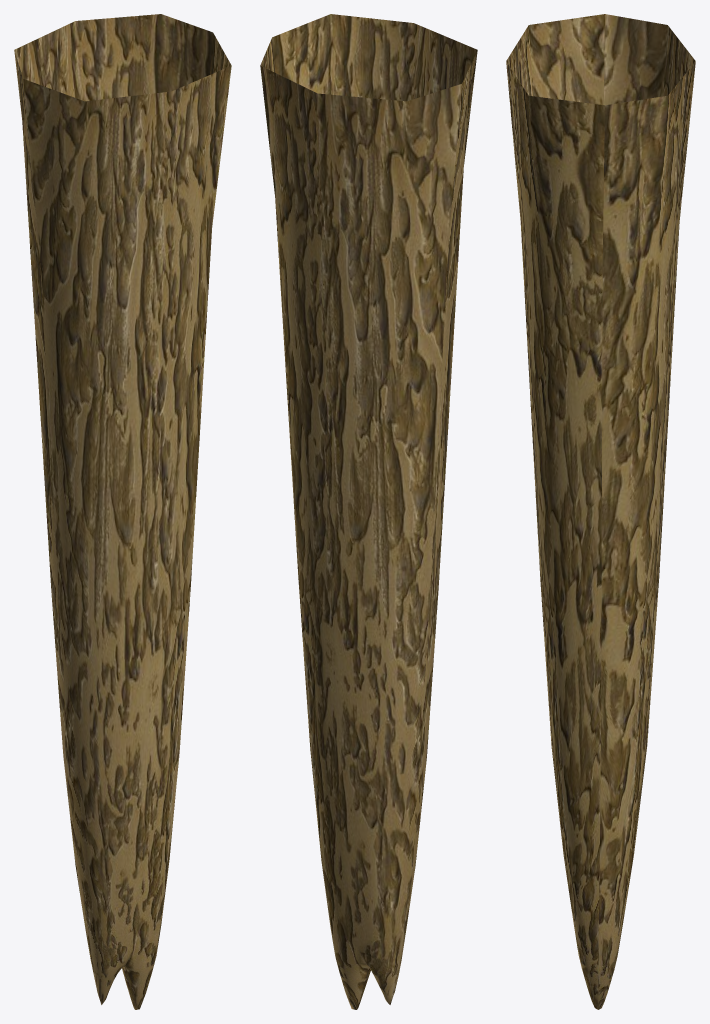
The model's file is THACHNHU001.fbx.
3 views of the same model, side by side, from view 1: azimuth 30°, elevation 25°; view 2: azimuth 150°, elevation 25°; view 3: azimuth 270°, elevation 25° (orthographic).
Visible parts, largest first — view 1: pCube1; view 2: pCube1; view 3: pCube1.
Boxes of the visible parts, <box> form: pCube1: <box>14,14,231,1009</box>; pCube1: <box>260,14,477,1009</box>; pCube1: <box>506,14,695,1009</box>.
Size of the model in its own units: 8.14 by 39.15 by 7.15.
Materials: 1 (1 with a texture image).
